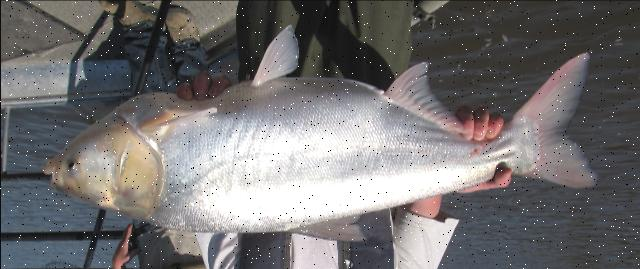Mulut: (34, 152, 64, 193)
Sirip Anal: (379, 57, 468, 141)
Sirip Dada: (141, 102, 217, 142)
Sirip Ekor: (506, 48, 604, 200)
Sirip Perut: (250, 18, 300, 92)
Sirip Punggung: (282, 212, 371, 250)
